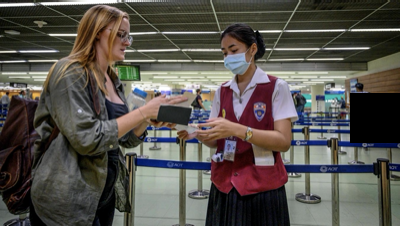with_mask: (222, 44, 253, 77)
without_mask: (101, 24, 132, 62)
